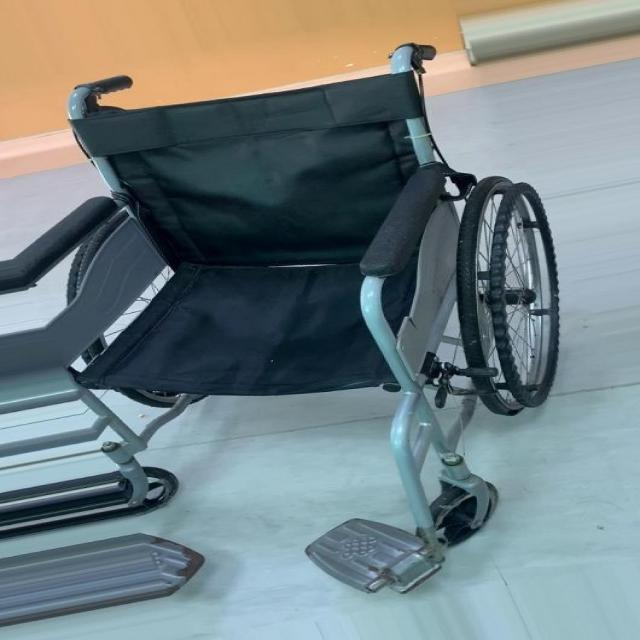wheelchair: (13, 34, 640, 640)
